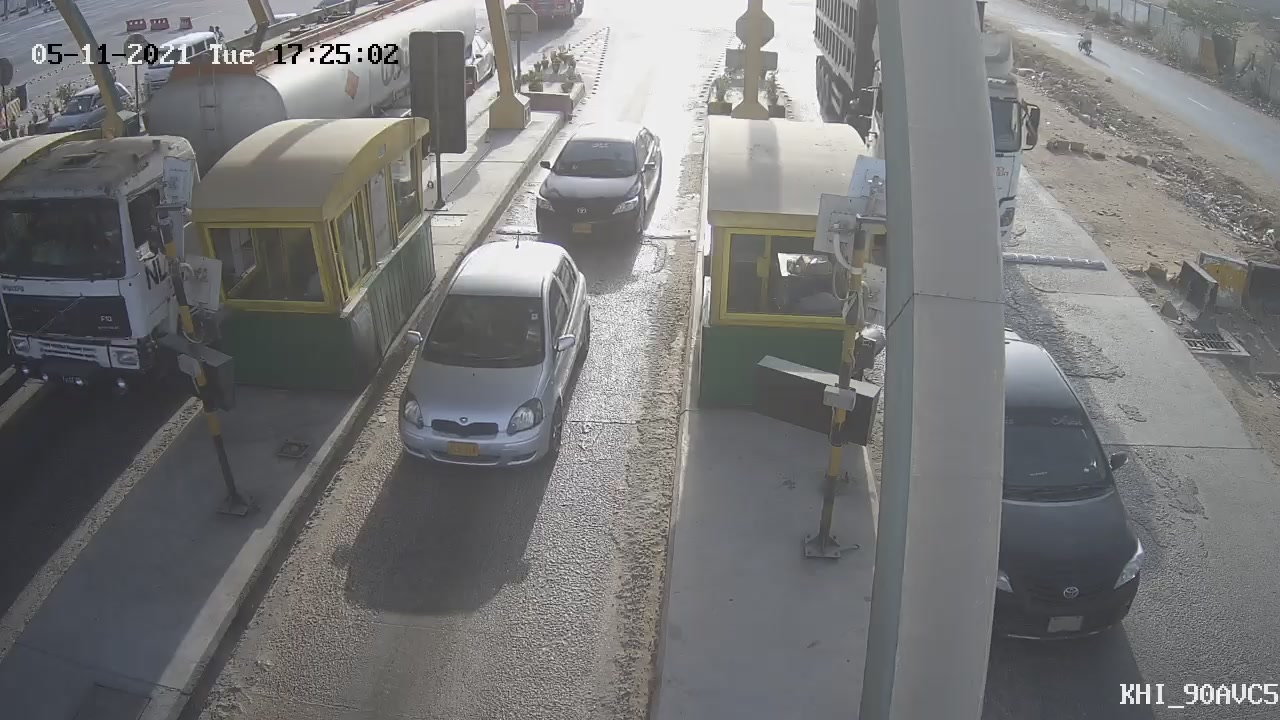F1: (381, 222, 608, 486), (511, 105, 676, 269)
